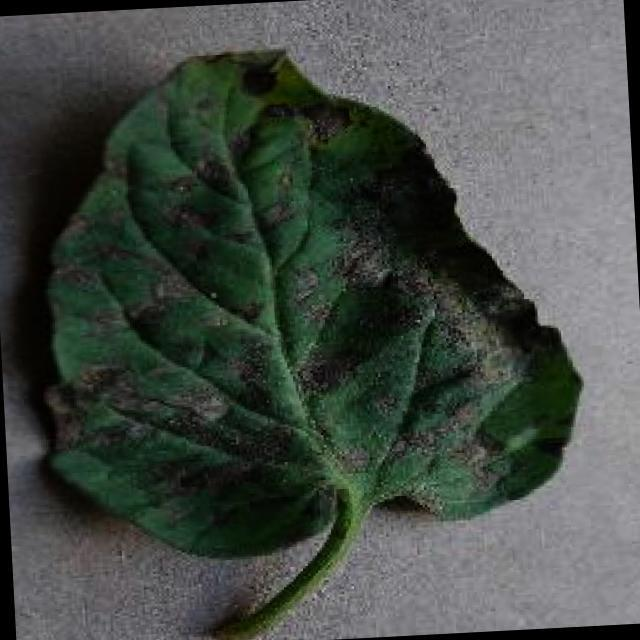Tomato Early blight leaf: (18, 24, 592, 572)
